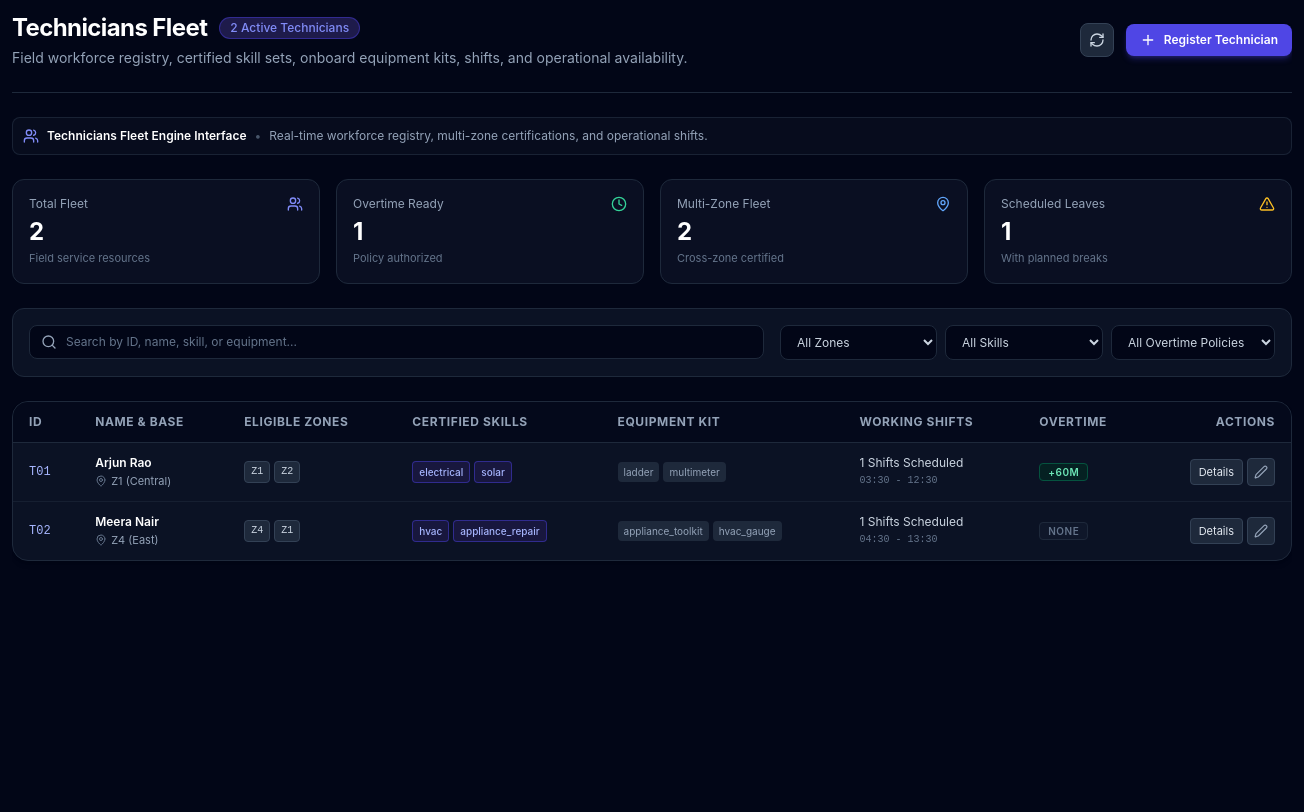
TechniciansPage Component › filters technicians using search input
Expected: the text "Arjun Rao" is shown, [95, 454, 152, 470]
In the field with placeholder "Search by ID, name, skill, or equipment...": x=396, y=342 [29, 325, 764, 359], type "Meera"
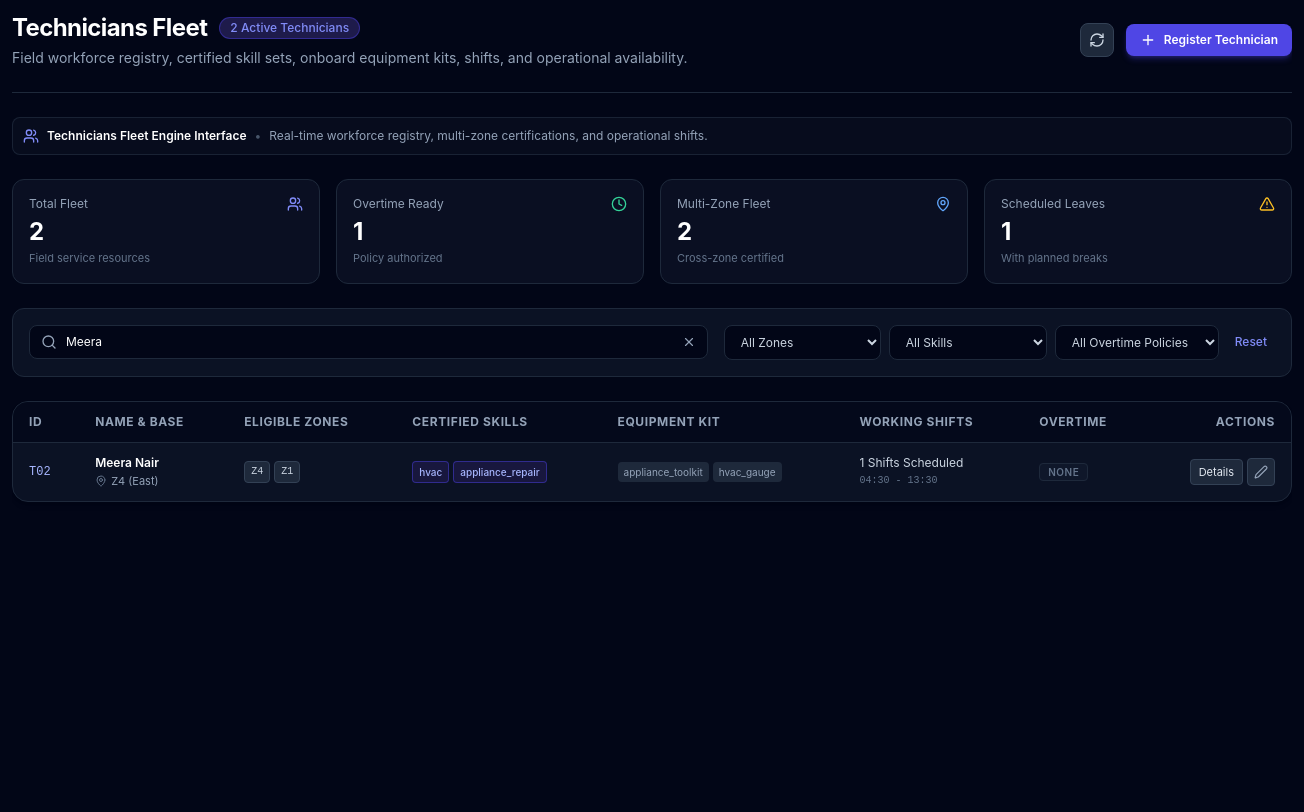
Expected: the text "Meera Nair" is shown, [95, 454, 159, 470]
Expected: the text "Arjun Rao" is gone
